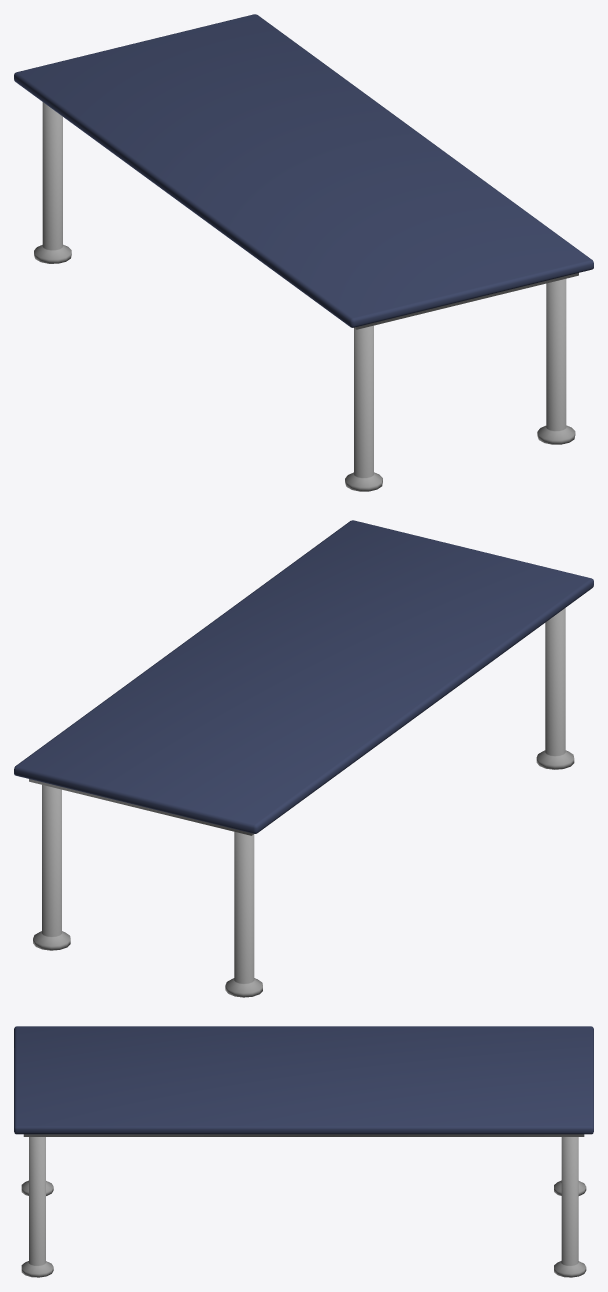
The model's file is DebrisTable.fbx.
3 renders of one model, top to bottom at view 1: azimuth 30°, elevation 25°; view 2: azimuth 150°, elevation 25°; view 3: azimuth 270°, elevation 25°, orthographic. The views are drawn at different scales.
Parts seen in each view (by area): view 1: Circle; view 2: Circle; view 3: Circle.
Part boxes in pixels (x1,y1,x2,y2): Circle: [14, 14, 593, 491]; Circle: [14, 520, 593, 997]; Circle: [14, 1026, 593, 1277].
Bounding box in the file's own units: 267 × 189 × 643.
